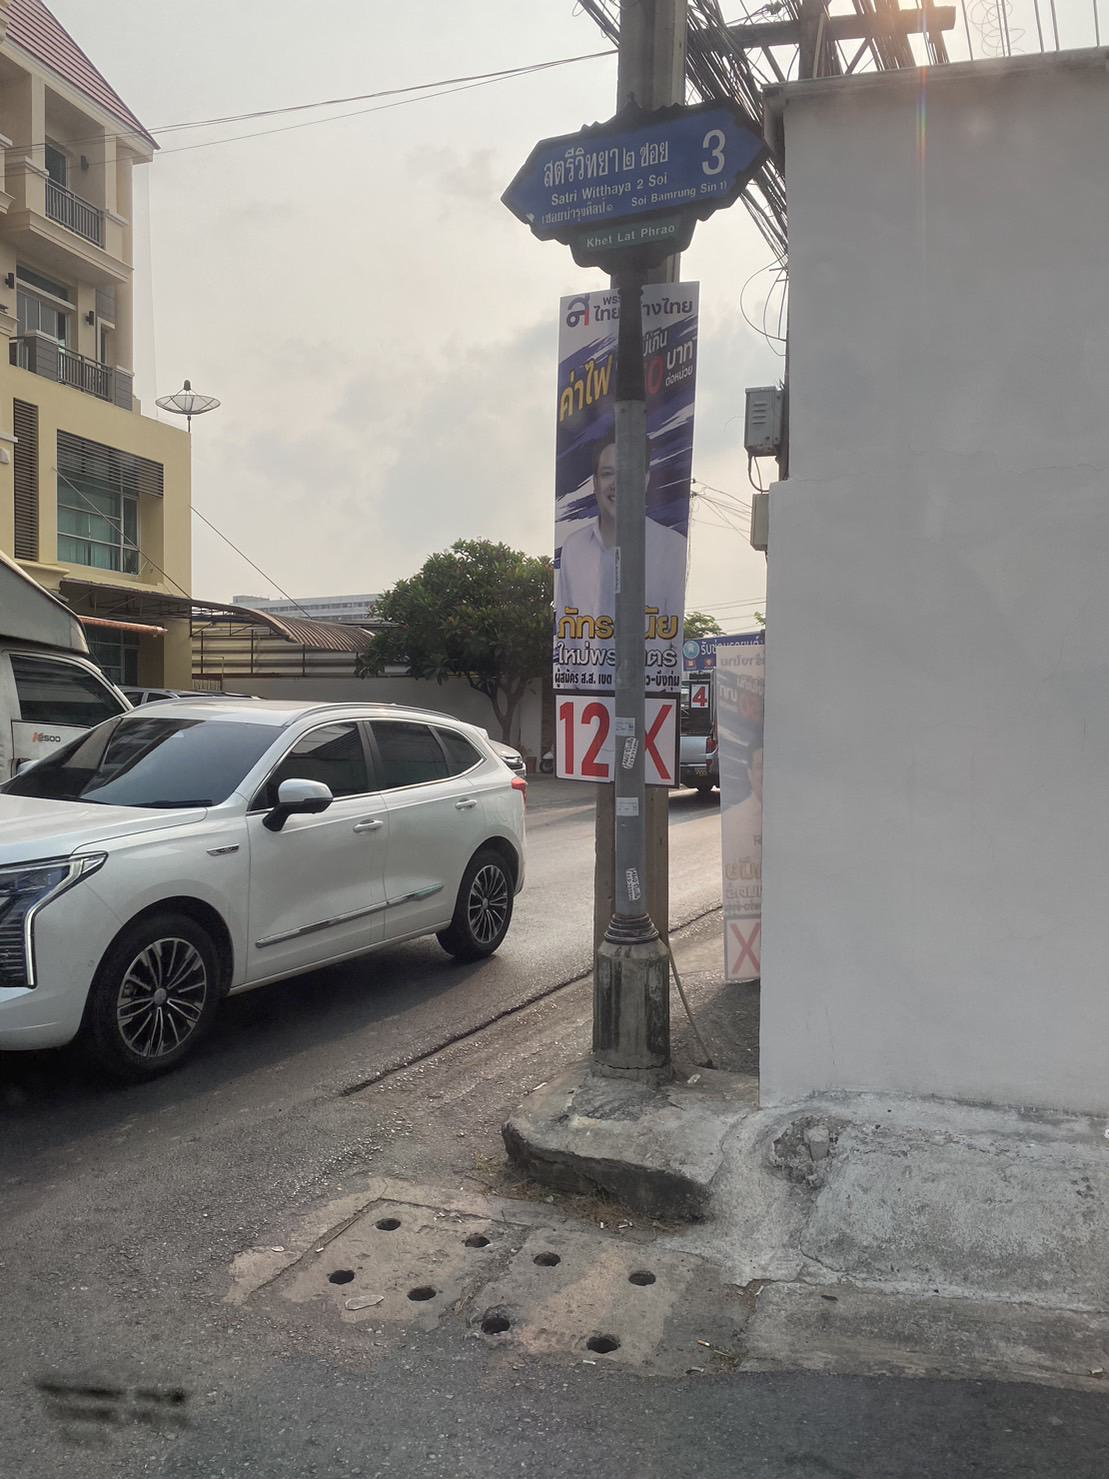Banner: (520, 273, 709, 794)
